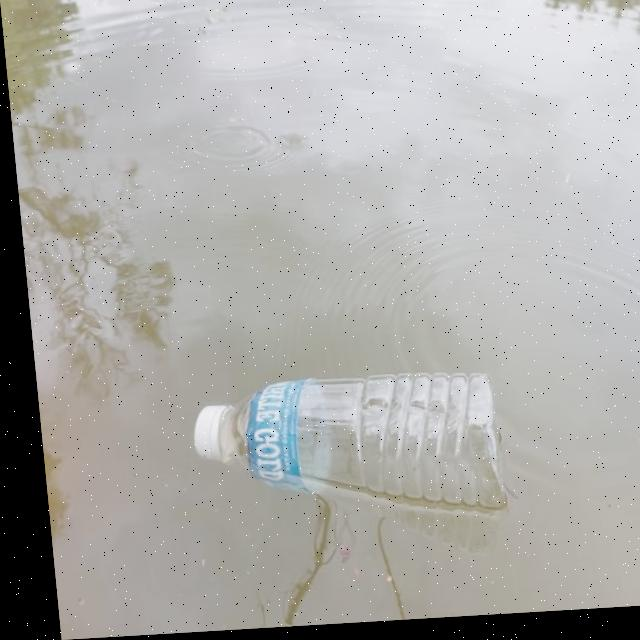waterbottle: (162, 368, 502, 532)
